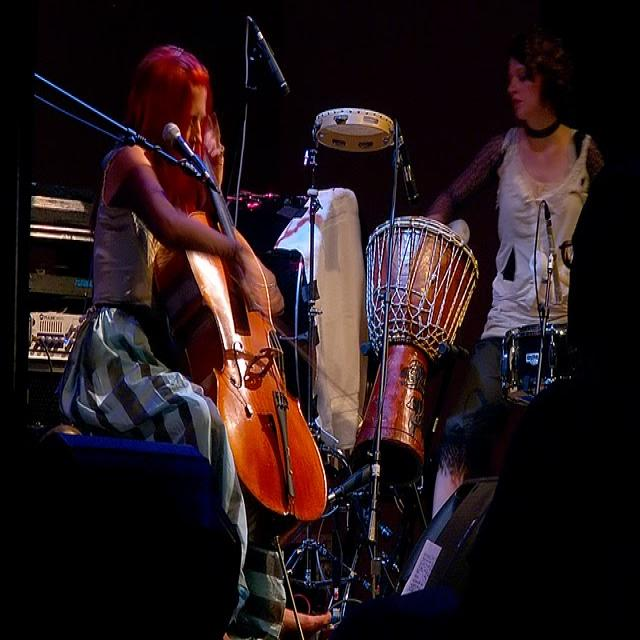cello: (148, 138, 328, 535)
